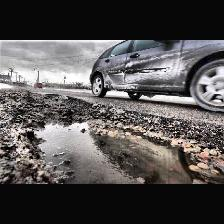pothole: (0, 91, 224, 184)
